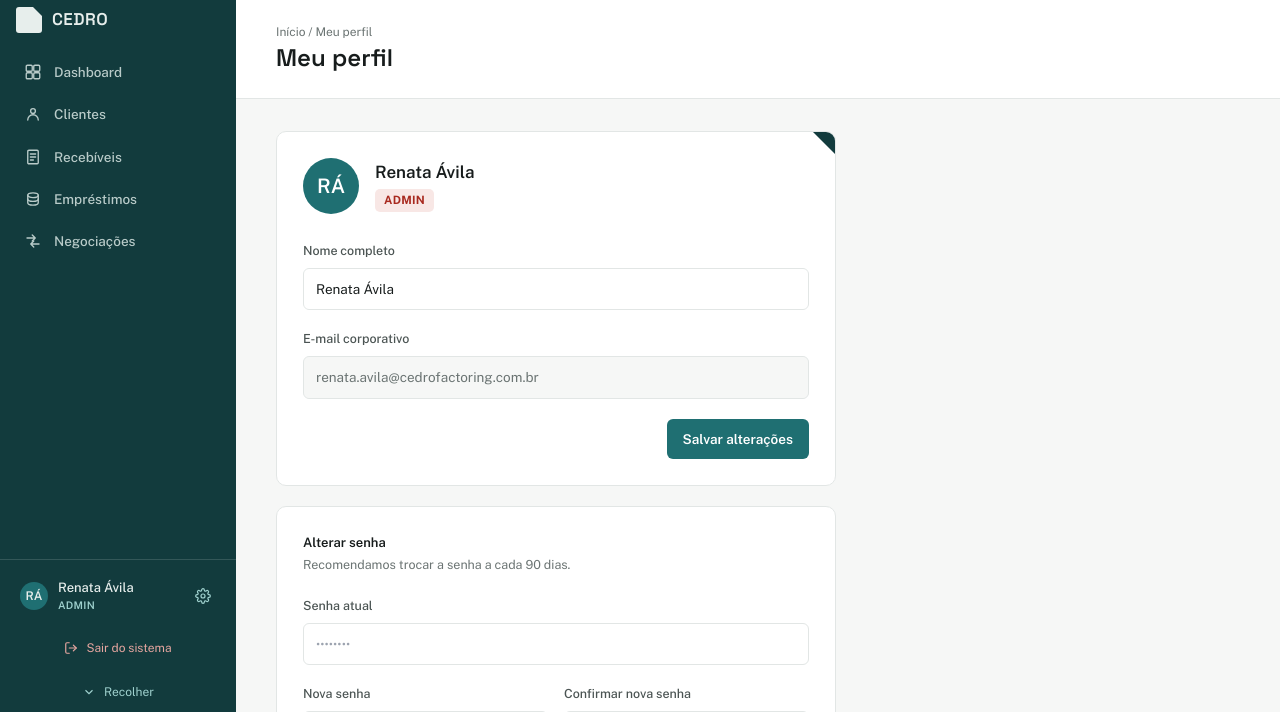
Scenario: MeuPerfilPage › saves the nome via PATCH /auth/me and syncs the auth store
Replace the text in the field showing "Renata Ávila" with "Renata A. Silva" at [556, 289], box left=303, top=268, right=809, bottom=310
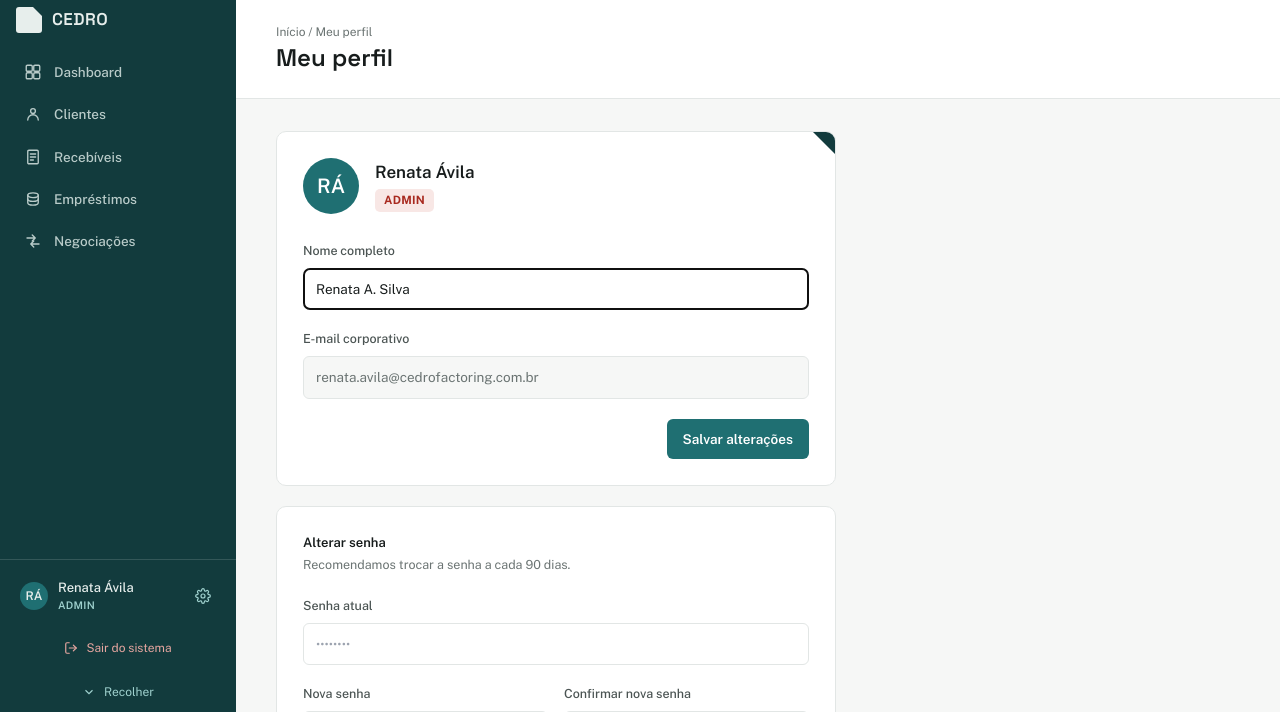
Click the button "Salvar alterações".
click(738, 439)  # box left=667, top=418, right=809, bottom=459
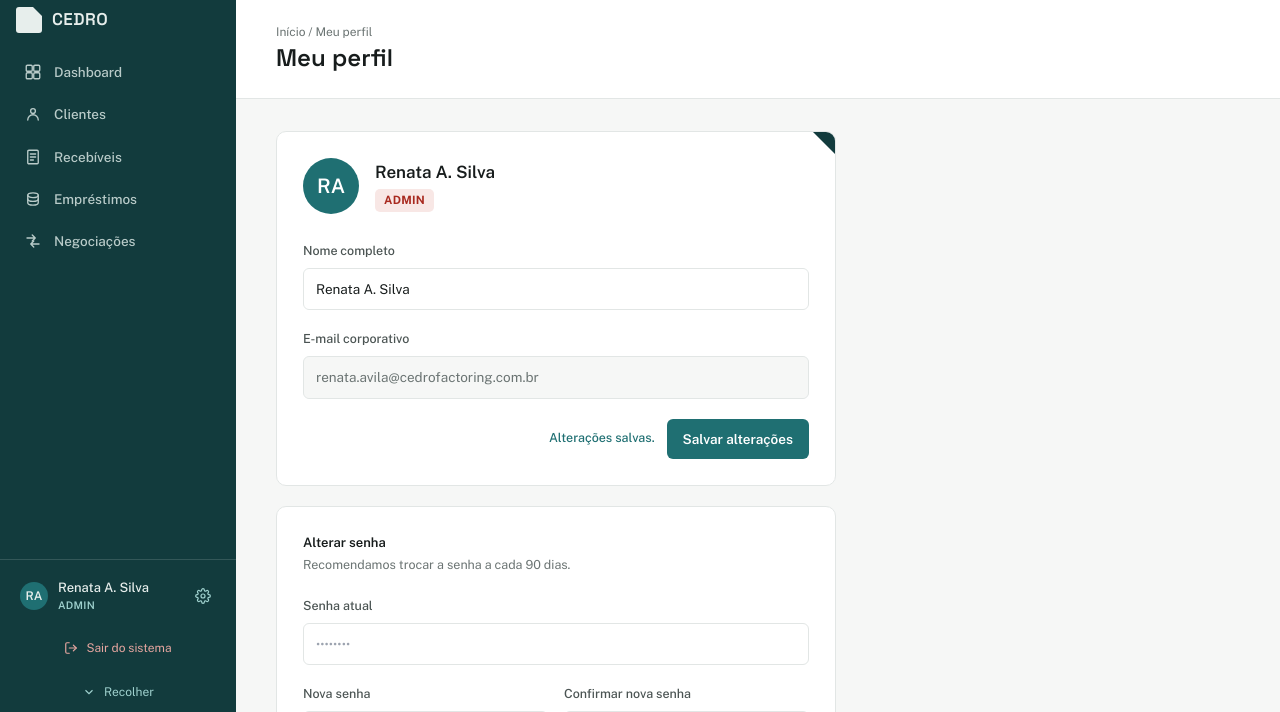
Expected: the 2nd text "Renata A. Silva" is shown, left=58, top=580, right=149, bottom=595
